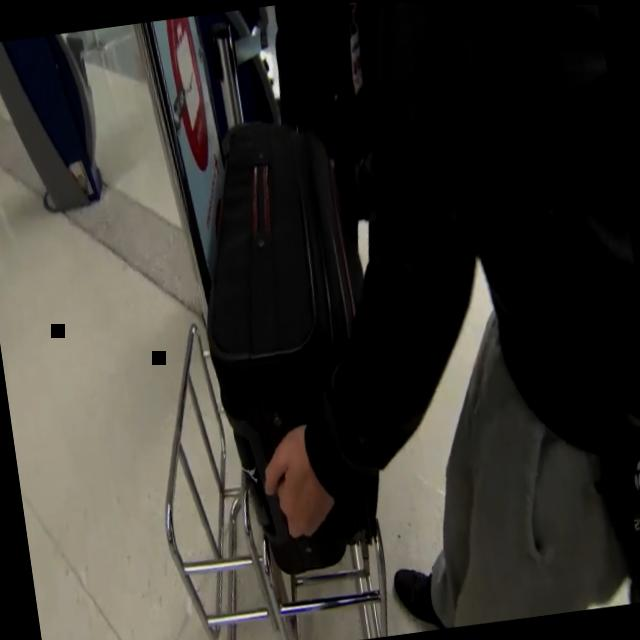luggage: (175, 100, 398, 586), (586, 353, 640, 605)
